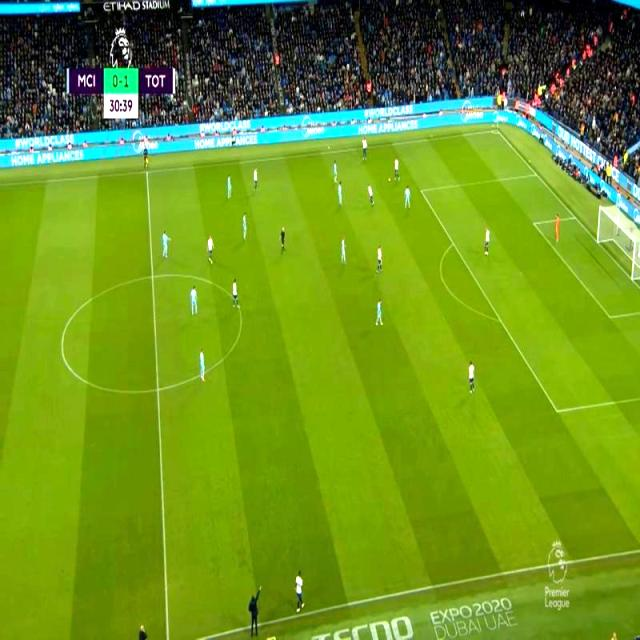bigarea_bottom_inner: (603, 311, 616, 324), (552, 406, 564, 419)
bigarea_top_inner: (416, 186, 427, 196)
bigarea_top_outter: (530, 165, 542, 182)
bottom_arc_area_intersection: (496, 316, 508, 328)
corner: (489, 125, 501, 138)
halfcircle_bottom: (151, 383, 165, 396)
halfcircle_top: (145, 271, 158, 284)
midline_top_intersection: (144, 167, 150, 178)
smallarea_top_inner: (530, 216, 538, 230)
smallarea_top_outter: (572, 212, 580, 223)
top_arc_area_intersection: (447, 238, 459, 250)
